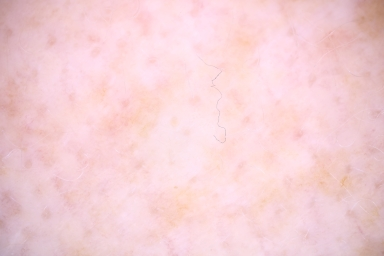melanoma: (235, 163, 352, 220), (93, 79, 171, 158), (203, 31, 262, 112), (134, 188, 203, 247)
